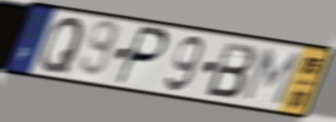9: (78, 18, 121, 82), (163, 33, 204, 93)
B: (203, 40, 260, 100)
M: (239, 46, 304, 108)
P: (113, 24, 171, 88)
Q: (38, 15, 86, 74)
